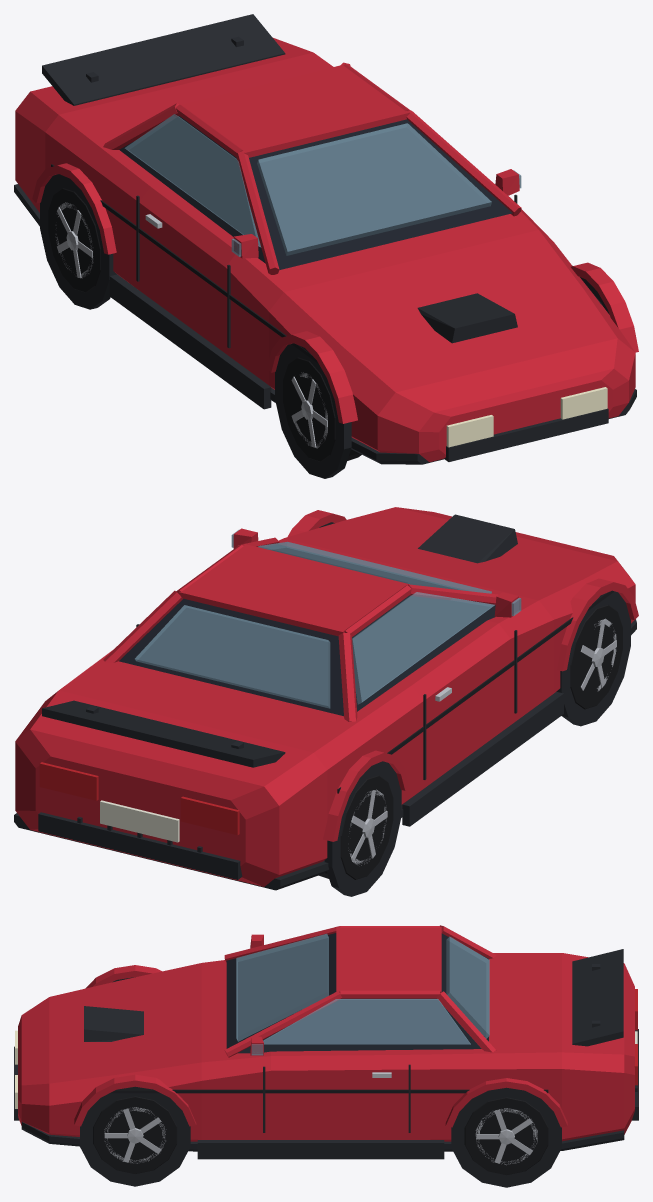
File: CAR_04.obj
The picture shows the model from 3 angles, top to bottom: view 1: azimuth 30°, elevation 25°; view 2: azimuth 150°, elevation 25°; view 3: azimuth 270°, elevation 25°; orthographic projection. The views are drawn at different scales.
Visible parts, largest first — view 1: body, cabin, glass, spoiler, wheel_FL_arch, wheel_RL_arch, side_skirts, wheel_FL, wheel_RL, hood_scoop, fascia, lights (+3 smaller); view 2: body, cabin, glass, fascia, spoiler, wheel_RL_arch, side_skirts, wheel_FL_arch, wheel_RL, wheel_FL, lights, hood_scoop (+3 smaller); view 3: body, cabin, glass, wheel_RR, wheel_FR, wheel_FR_arch, wheel_RR_arch, side_skirts, spoiler, body_detail, hood_scoop, wheel_FL_arch (+3 smaller).
Boxes of the visible parts, left/top/right/bottom form: body: left=14, top=37, right=636, bottom=464; cabin: left=103, top=62, right=521, bottom=274; glass: left=124, top=114, right=491, bottom=255; spoiler: left=42, top=14, right=285, bottom=105; wheel_FL_arch: left=267, top=331, right=357, bottom=478; wheel_RL_arch: left=32, top=163, right=116, bottom=309; side_skirts: left=109, top=274, right=271, bottom=409; wheel_FL: left=283, top=357, right=361, bottom=461; wheel_RL: left=48, top=188, right=100, bottom=292; hood_scoop: left=417, top=293, right=517, bottom=343; fascia: left=444, top=408, right=608, bottom=461; lights: left=446, top=387, right=607, bottom=447; body: left=14, top=507, right=636, bottom=890; cabin: left=103, top=537, right=521, bottom=721; glass: left=135, top=541, right=494, bottom=708; fascia: left=38, top=800, right=242, bottom=879; spoiler: left=42, top=700, right=285, bottom=767; wheel_RL_arch: left=323, top=750, right=409, bottom=896; side_skirts: left=402, top=691, right=563, bottom=826; wheel_FL_arch: left=556, top=578, right=638, bottom=726; wheel_RL: left=319, top=775, right=393, bottom=879; wheel_FL: left=570, top=605, right=622, bottom=709; lights: left=39, top=762, right=239, bottom=835; hood_scoop: left=418, top=514, right=517, bottom=563; body: left=18, top=953, right=634, bottom=1151; cabin: left=224, top=925, right=496, bottom=1057; glass: left=236, top=933, right=489, bottom=1044; wheel_RR: left=464, top=1097, right=548, bottom=1175; wheel_FR: left=93, top=1096, right=177, bottom=1173; wheel_FR_arch: left=74, top=1074, right=196, bottom=1186; wheel_RR_arch: left=445, top=1078, right=567, bottom=1187; side_skirts: left=197, top=1140, right=444, bottom=1159; spoiler: left=572, top=949, right=623, bottom=1046; body_detail: left=110, top=1064, right=548, bottom=1132; hood_scoop: left=84, top=1006, right=143, bottom=1041; wheel_FL_arch: left=85, top=965, right=161, bottom=988.
Bounding box in the file's own units: 2.01 × 1.37 × 4.51.
